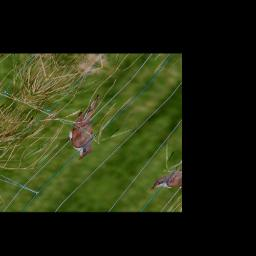Cuckoo: (44, 91, 133, 163)
